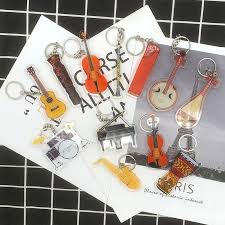Saxophone: (91, 142, 160, 196)
Violin: (139, 116, 169, 170)
